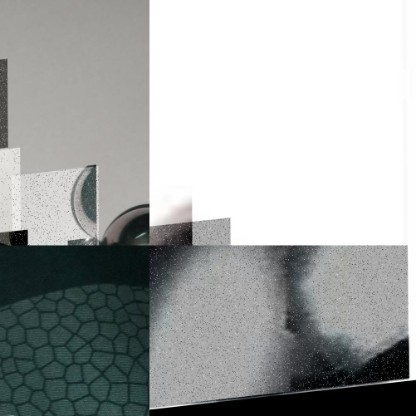ironball: (149, 245, 407, 415), (11, 170, 98, 245), (103, 203, 148, 242), (0, 150, 19, 241)
